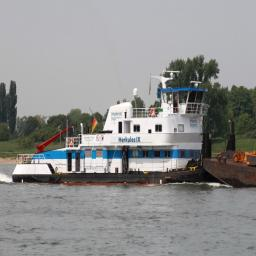tugboat: (12, 70, 239, 192)
